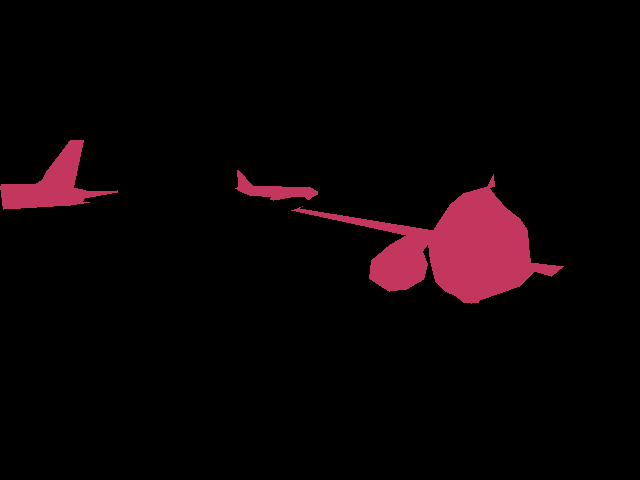Airplane: (291, 174, 563, 304), (0, 140, 117, 209), (235, 170, 318, 201)
